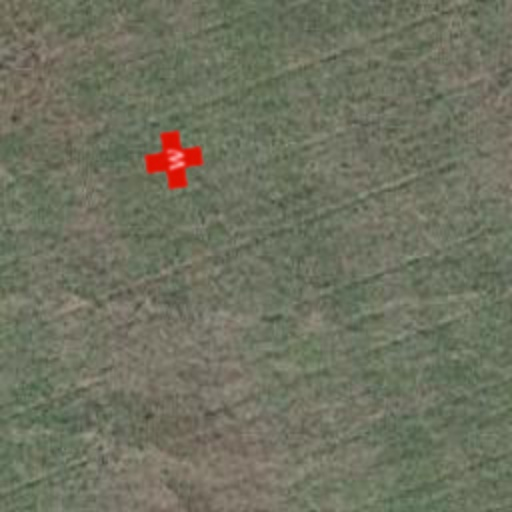cross: (140, 126, 208, 194)
